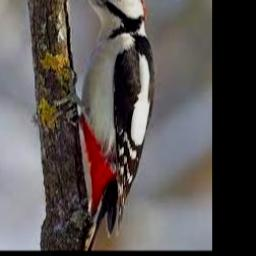Woodpecker: (60, 0, 155, 251)
